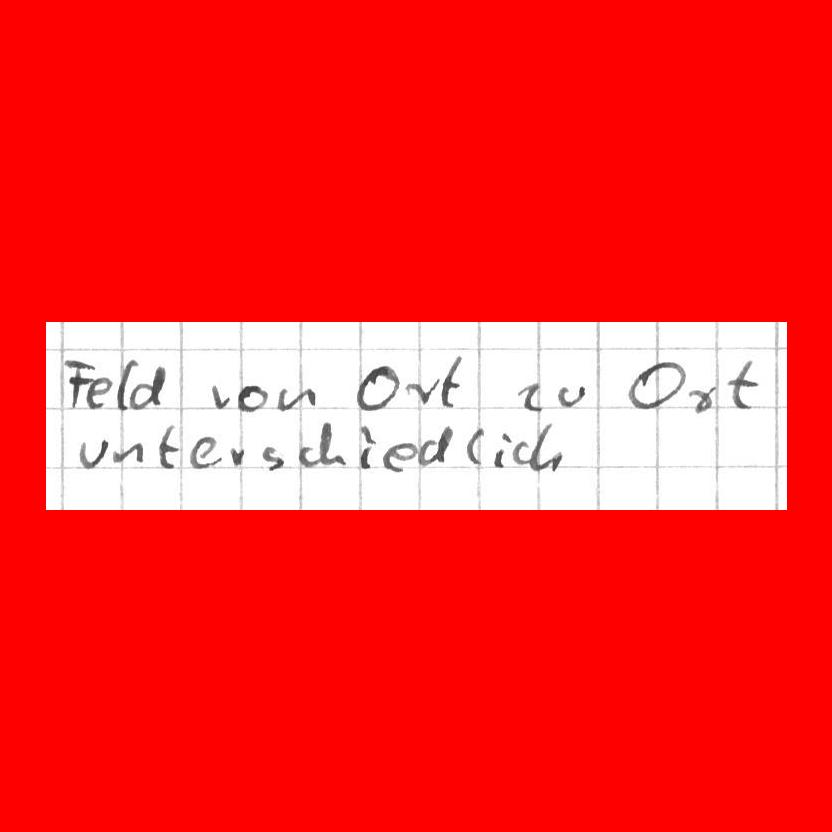Char: (625, 358, 688, 412), (353, 361, 399, 414), (528, 421, 564, 477), (724, 357, 760, 412), (128, 364, 167, 411), (62, 356, 94, 409), (416, 424, 454, 468), (437, 352, 465, 409), (318, 418, 349, 468), (185, 432, 222, 472), (356, 421, 379, 475), (381, 439, 417, 473), (115, 357, 137, 412), (155, 423, 179, 472), (277, 385, 320, 412), (236, 382, 269, 416), (75, 436, 109, 469), (403, 376, 440, 406), (684, 380, 715, 414), (109, 438, 144, 468), (515, 378, 544, 414), (464, 424, 487, 469), (85, 376, 112, 411), (491, 428, 513, 468), (556, 382, 585, 409), (261, 442, 283, 472), (295, 442, 319, 469), (209, 382, 231, 409), (513, 437, 533, 466), (227, 442, 248, 469)
